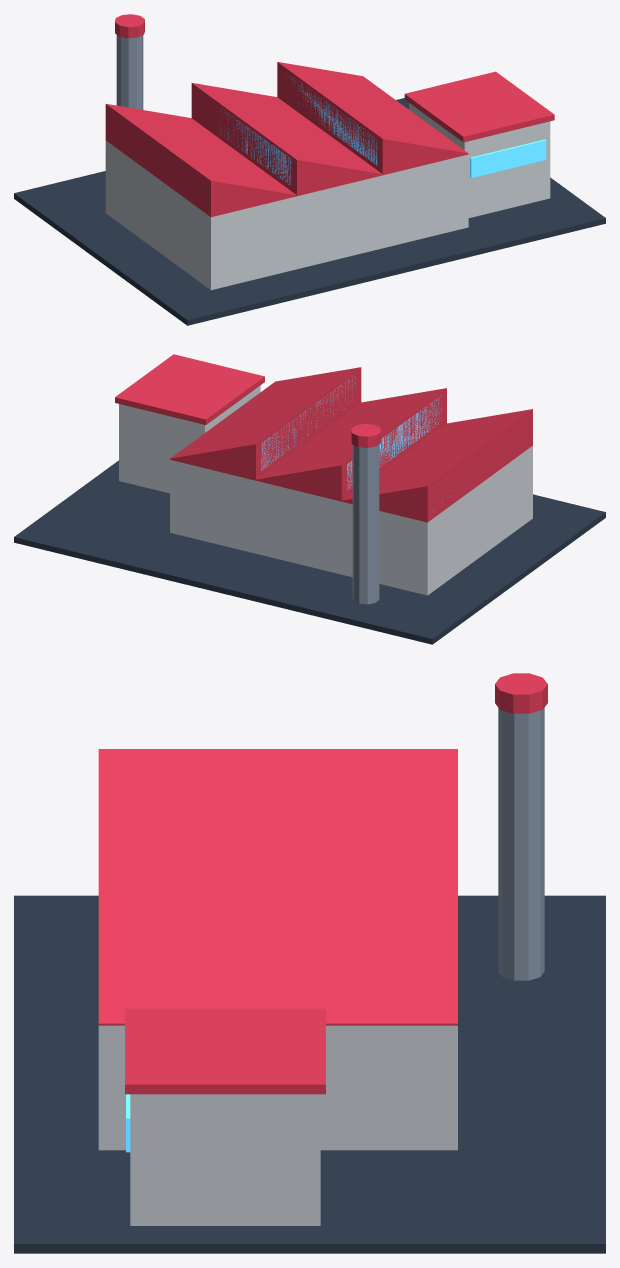
The model's file is customer_site.glb.
3 views of the same model, one above another, from view 1: azimuth 30°, elevation 25°; view 2: azimuth 150°, elevation 25°; view 3: azimuth 270°, elevation 25° (orthographic). The views are drawn at different scales.
Visible parts, largest first — view 1: customer_site; view 2: customer_site; view 3: customer_site.
Part boxes in pixels (box(x1,y1,x2,y2)): customer_site: box(14, 14, 605, 325); customer_site: box(14, 354, 605, 644); customer_site: box(14, 673, 605, 1253).
Size of the model in its own units: 0.78 by 0.31 by 0.56.
